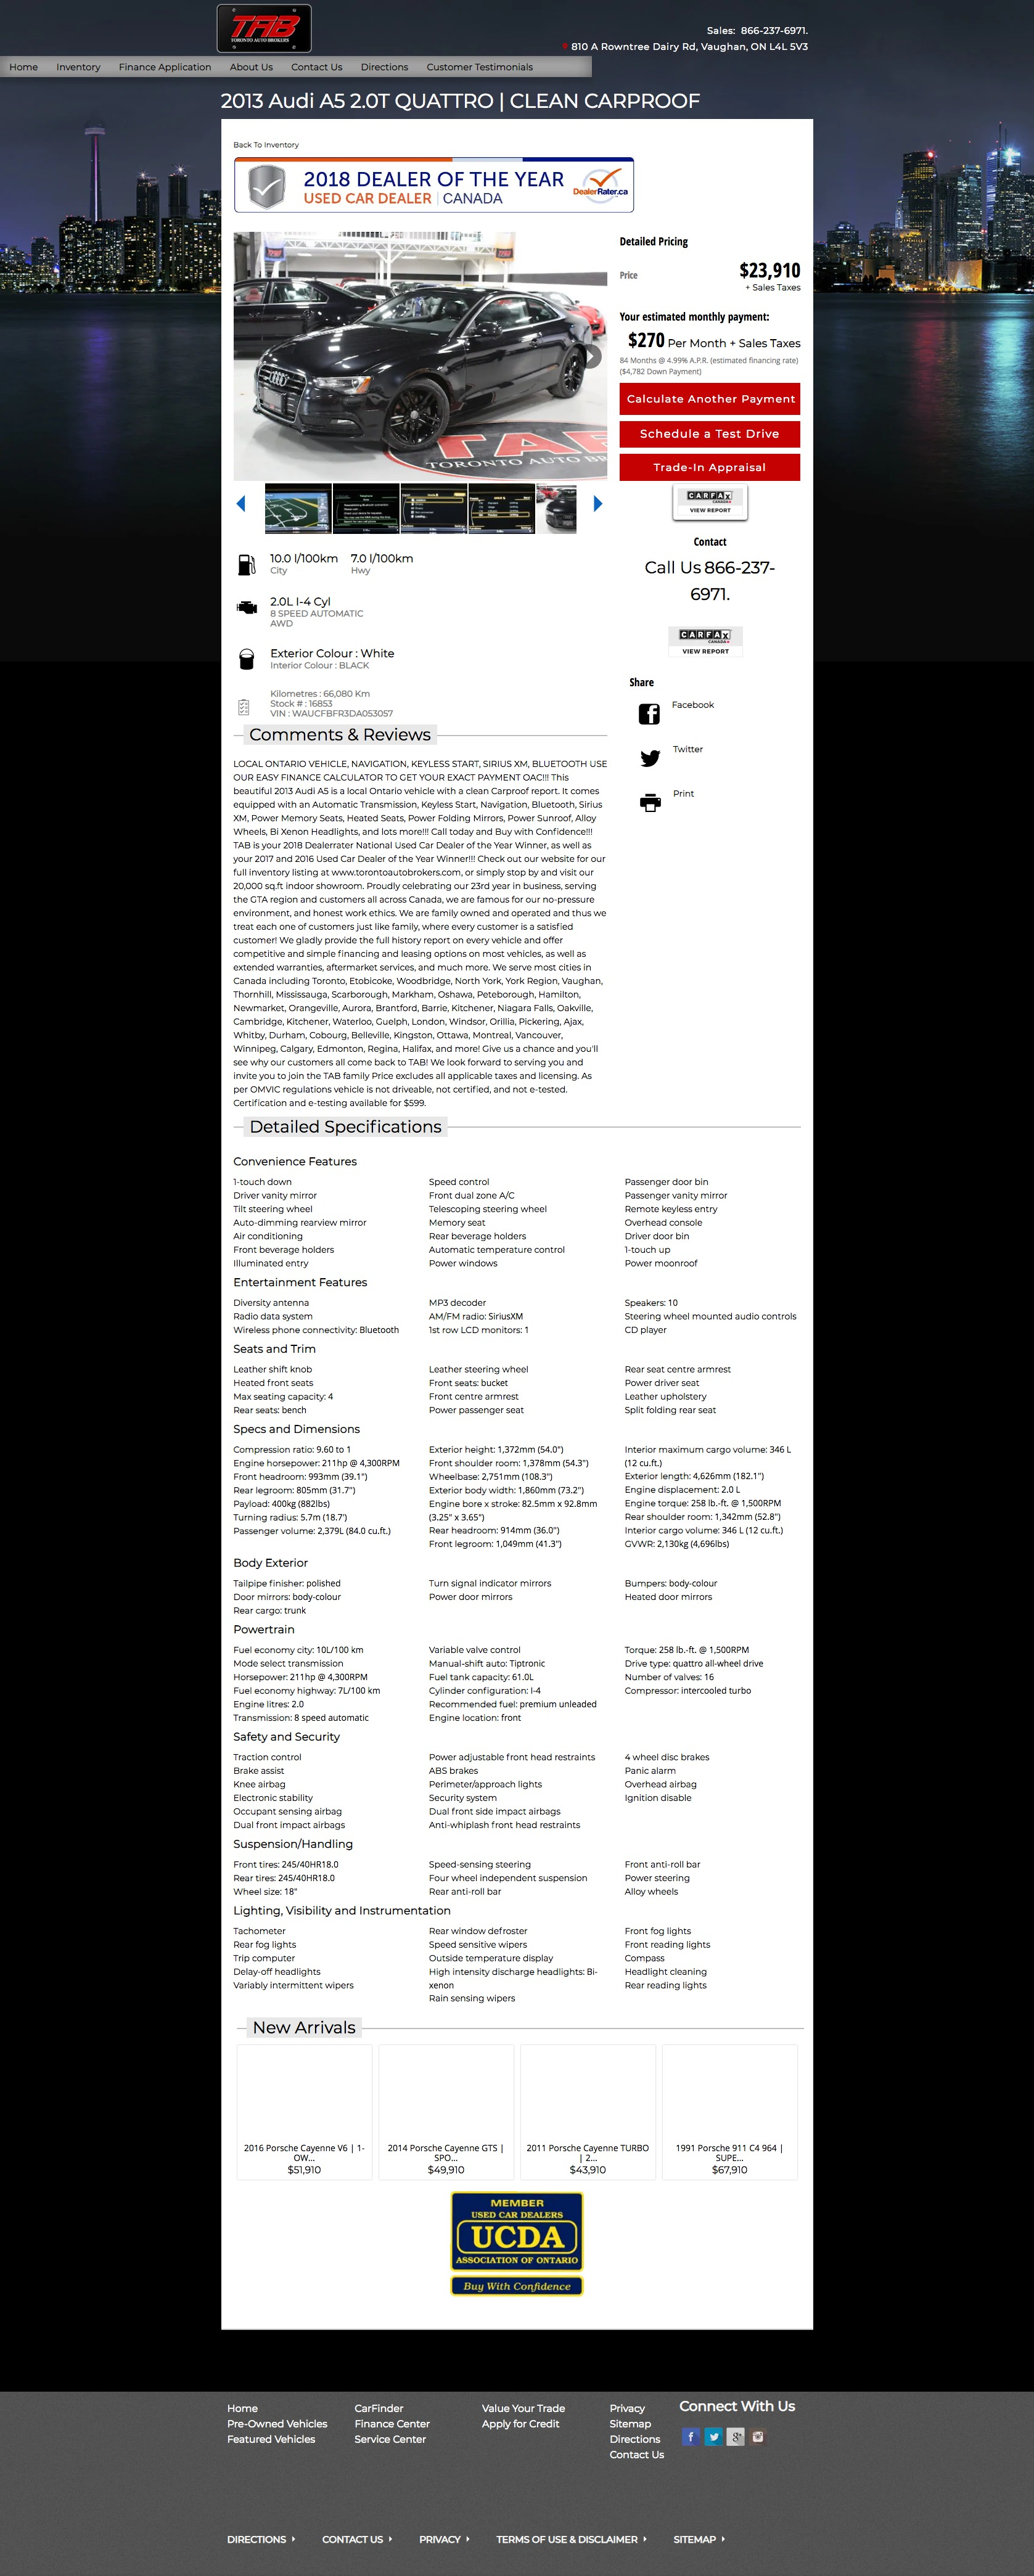car: (593, 494, 603, 514)
